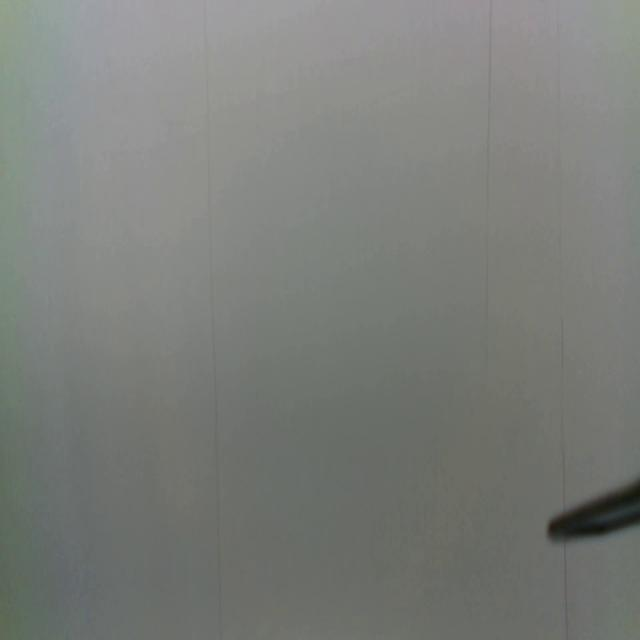crease: (203, 0, 226, 636), (555, 4, 568, 512), (482, 0, 495, 362), (562, 544, 570, 640)
